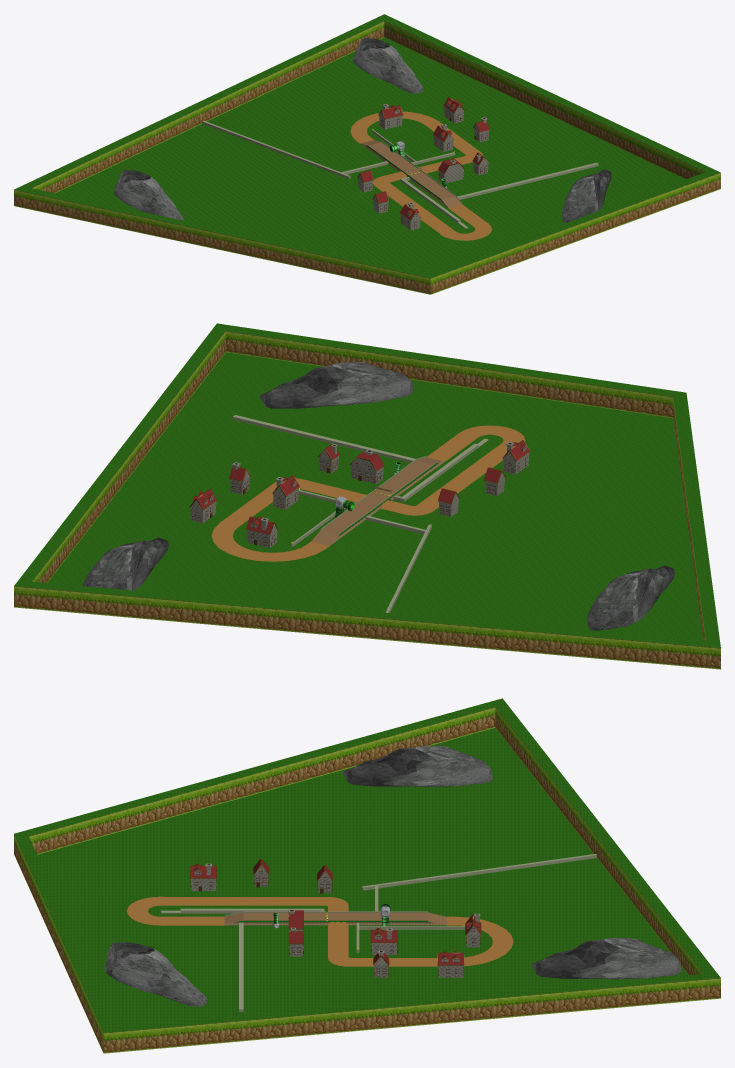
3 views of the same model, one above another, from view 1: azimuth 30°, elevation 25°; view 2: azimuth 150°, elevation 25°; view 3: azimuth 270°, elevation 25° (orthographic). The views are drawn at different scales.
Parts seen in each view (by area): view 1: 1_Main-erba, 1_Main-montagna, 1_Main-strada2, 1_Main-muro, 1_c_skp72-roccia.000, 1_c_skp72-roccia, 1_c_skp72-roccia.001, 1_Main-strada; view 2: 1_Main-erba, 1_Main-montagna, 1_Main-strada2, 1_c_skp72-roccia.001, 1_c_skp72-roccia, 1_Main-muro, 1_c_skp72-roccia.000, 1_Main-strada, 1_Main-muro_2, 1_c_Rooster_Island_House_7-MarioHouseBrick; view 3: 1_Main-erba, 1_Main-montagna, 1_Main-strada2, 1_c_skp72-roccia, 1_c_skp72-roccia.000, 1_c_skp72-roccia.001, 1_Main-muro, 1_Main-strada, 1_Main-muro_2.
Boxes of the visible parts, box(x1,y1,x2,y2) form: 1_Main-erba: box(14, 14, 720, 278); 1_Main-montagna: box(14, 21, 720, 294); 1_Main-strada2: box(350, 111, 491, 240); 1_Main-muro: box(202, 120, 598, 228); 1_c_skp72-roccia.000: box(353, 38, 423, 93); 1_c_skp72-roccia: box(114, 170, 184, 220); 1_c_skp72-roccia.001: box(561, 169, 611, 222); 1_Main-strada: box(360, 140, 462, 207); 1_Main-erba: box(14, 323, 720, 647); 1_Main-montagna: box(14, 331, 720, 669); 1_Main-strada2: box(211, 425, 525, 561); 1_c_skp72-roccia.001: box(259, 361, 413, 408); 1_c_skp72-roccia: box(587, 565, 674, 630); 1_Main-muro: box(232, 415, 488, 612); 1_c_skp72-roccia.000: box(82, 537, 168, 590); 1_Main-strada: box(311, 457, 442, 545); 1_Main-muro_2: box(331, 460, 445, 544); 1_c_Rooster_Island_House_7-MarioHouseBrick: box(350, 449, 383, 484); 1_Main-erba: box(14, 698, 720, 1032); 1_Main-montagna: box(14, 707, 720, 1053); 1_Main-strada2: box(127, 896, 513, 966); 1_c_skp72-roccia: box(342, 745, 492, 786); 1_c_skp72-roccia.000: box(531, 938, 681, 979); 1_c_skp72-roccia.001: box(105, 942, 207, 1006); 1_Main-muro: box(161, 854, 596, 1011); 1_Main-strada: box(224, 912, 446, 925); 1_Main-muro_2: box(224, 920, 445, 925).
Bounding box in the file's own units: 138075 × 7125 × 123252.
59 materials, 59 textured.
